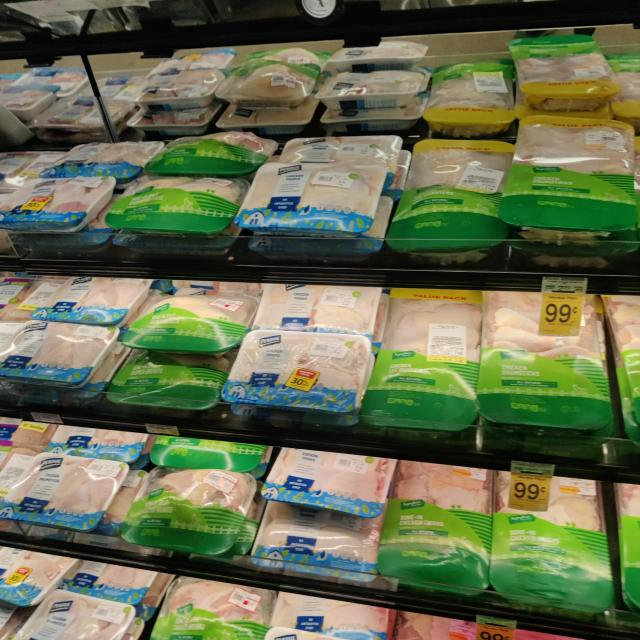Meat: (482, 290, 618, 431), (490, 469, 618, 618), (365, 290, 484, 425), (516, 113, 640, 232), (381, 465, 492, 593), (232, 333, 372, 417), (246, 162, 394, 237), (130, 467, 256, 555), (265, 447, 398, 517), (6, 454, 130, 529), (266, 501, 377, 575), (113, 177, 249, 235), (126, 294, 258, 353), (510, 39, 616, 108), (3, 321, 120, 383), (163, 576, 276, 640), (2, 177, 117, 238), (270, 589, 400, 640), (131, 48, 238, 106), (16, 589, 137, 640), (430, 63, 517, 132), (258, 286, 380, 335), (149, 134, 280, 175), (52, 138, 160, 181), (222, 64, 319, 107), (324, 68, 428, 106), (39, 91, 134, 132)
